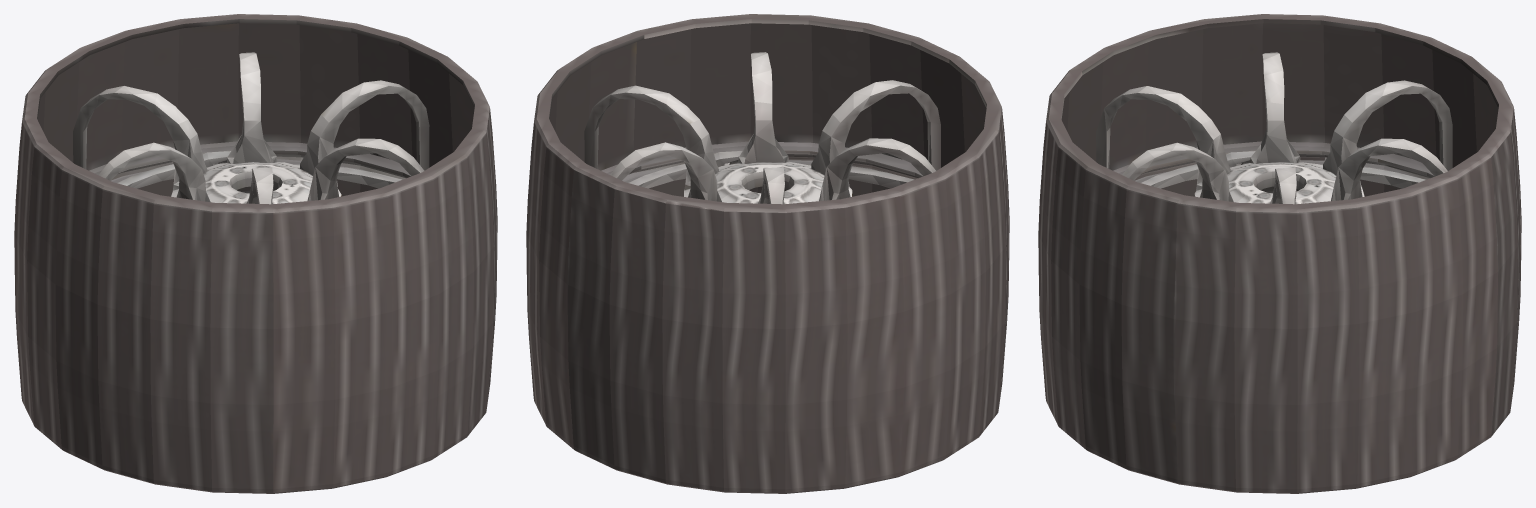
File: wheel_lm.obj
3 renders of one model, left to right at view 1: azimuth 30°, elevation 25°; view 2: azimuth 150°, elevation 25°; view 3: azimuth 270°, elevation 25°, orthographic.
Size of the model in its own units: 0.5085 by 0.3306 by 0.5085.
1 material, 1 textured.
